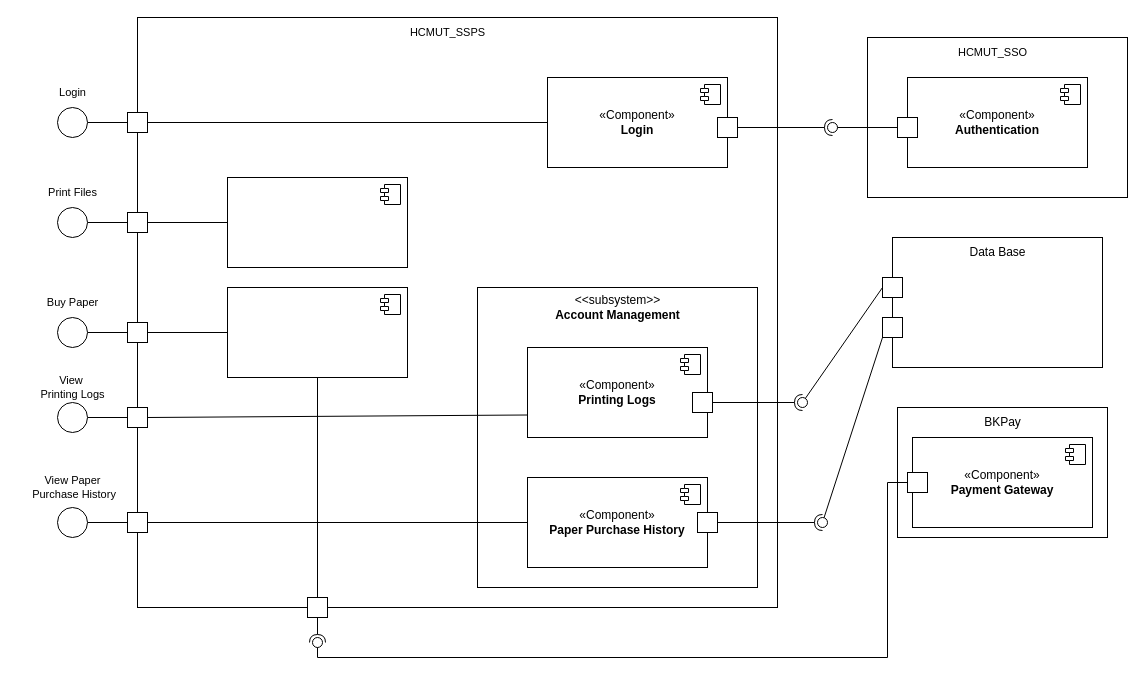
The diagram is 1145 pixels wide and 687 high, and some of its shapes have lost their labels. The shapes that lost their labels are listed below. From the top down, each one's centre as x and y in pixels, then its label:
At point (317, 222): "«Component» Print Files".
At point (317, 332): "«Component» Buy Paper".
